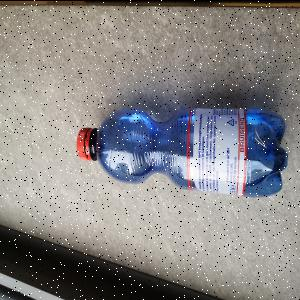Plastic-bottle: (78, 107, 290, 200)
